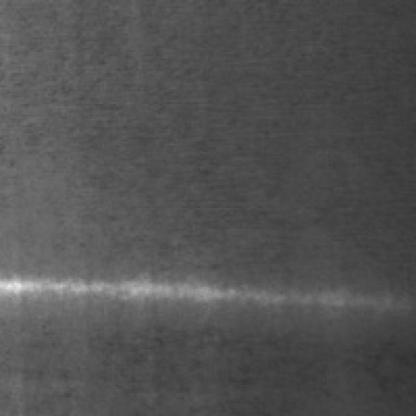scratches: (4, 268, 406, 302)
